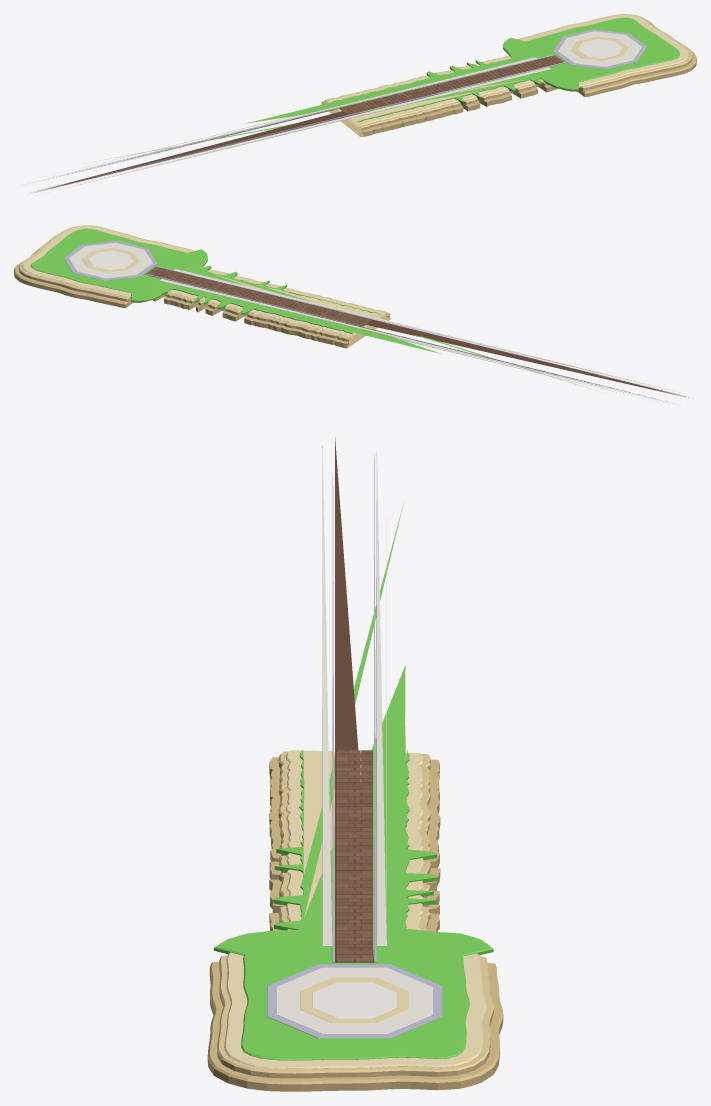
File: Ground_Main_1.glb
The picture shows the model from 3 angles, top to bottom: view 1: azimuth 30°, elevation 25°; view 2: azimuth 150°, elevation 25°; view 3: azimuth 270°, elevation 25°; orthographic projection. The views are drawn at different scales.
Visible parts, largest first — view 1: Ground_Main_1; view 2: Ground_Main_1; view 3: Ground_Main_1.
Part boxes in pixels (x1=…): Ground_Main_1: x1=29, y1=14, x2=696, y2=193; Ground_Main_1: x1=14, y1=225, x2=688, y2=403; Ground_Main_1: x1=207, y1=437, x2=503, y2=1091.
Bounding box in the file's own units: 541 × 8 × 106.
1 material, 1 textured.
